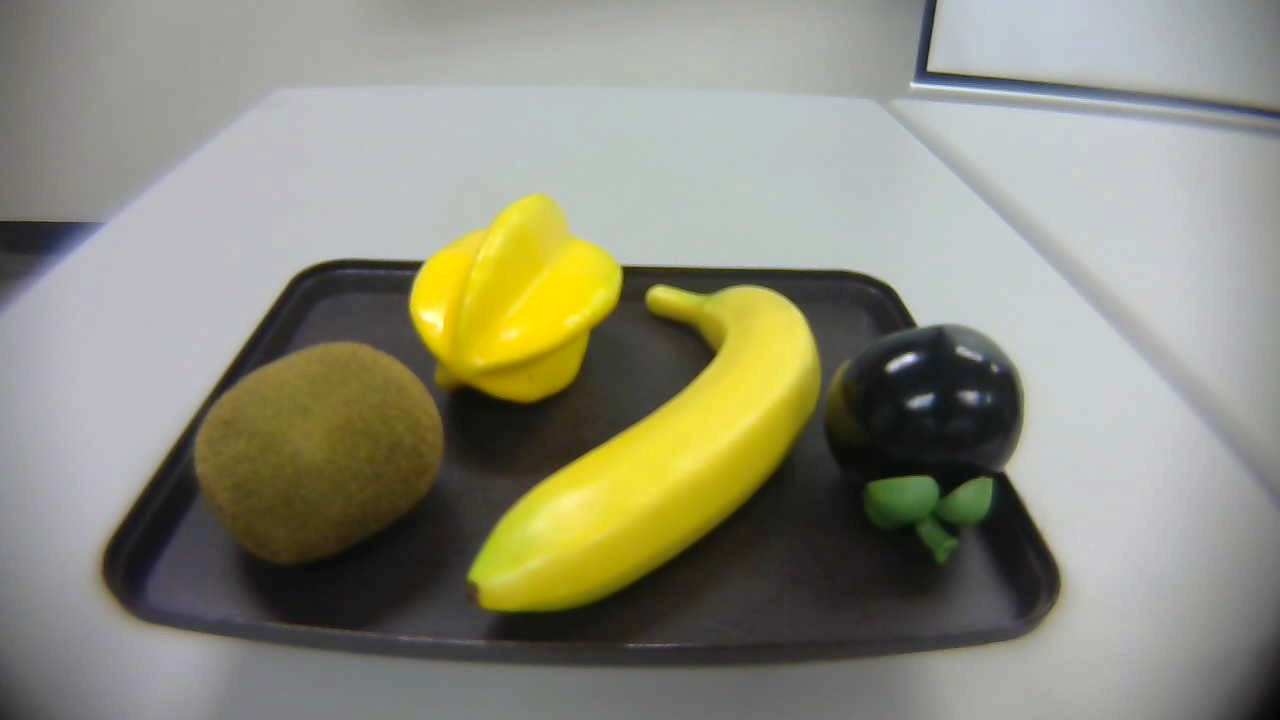banana: (465, 263, 827, 619)
kiwi fruit: (185, 334, 453, 568)
mangosteen: (824, 324, 1030, 558)
star fruit: (397, 186, 630, 426)
